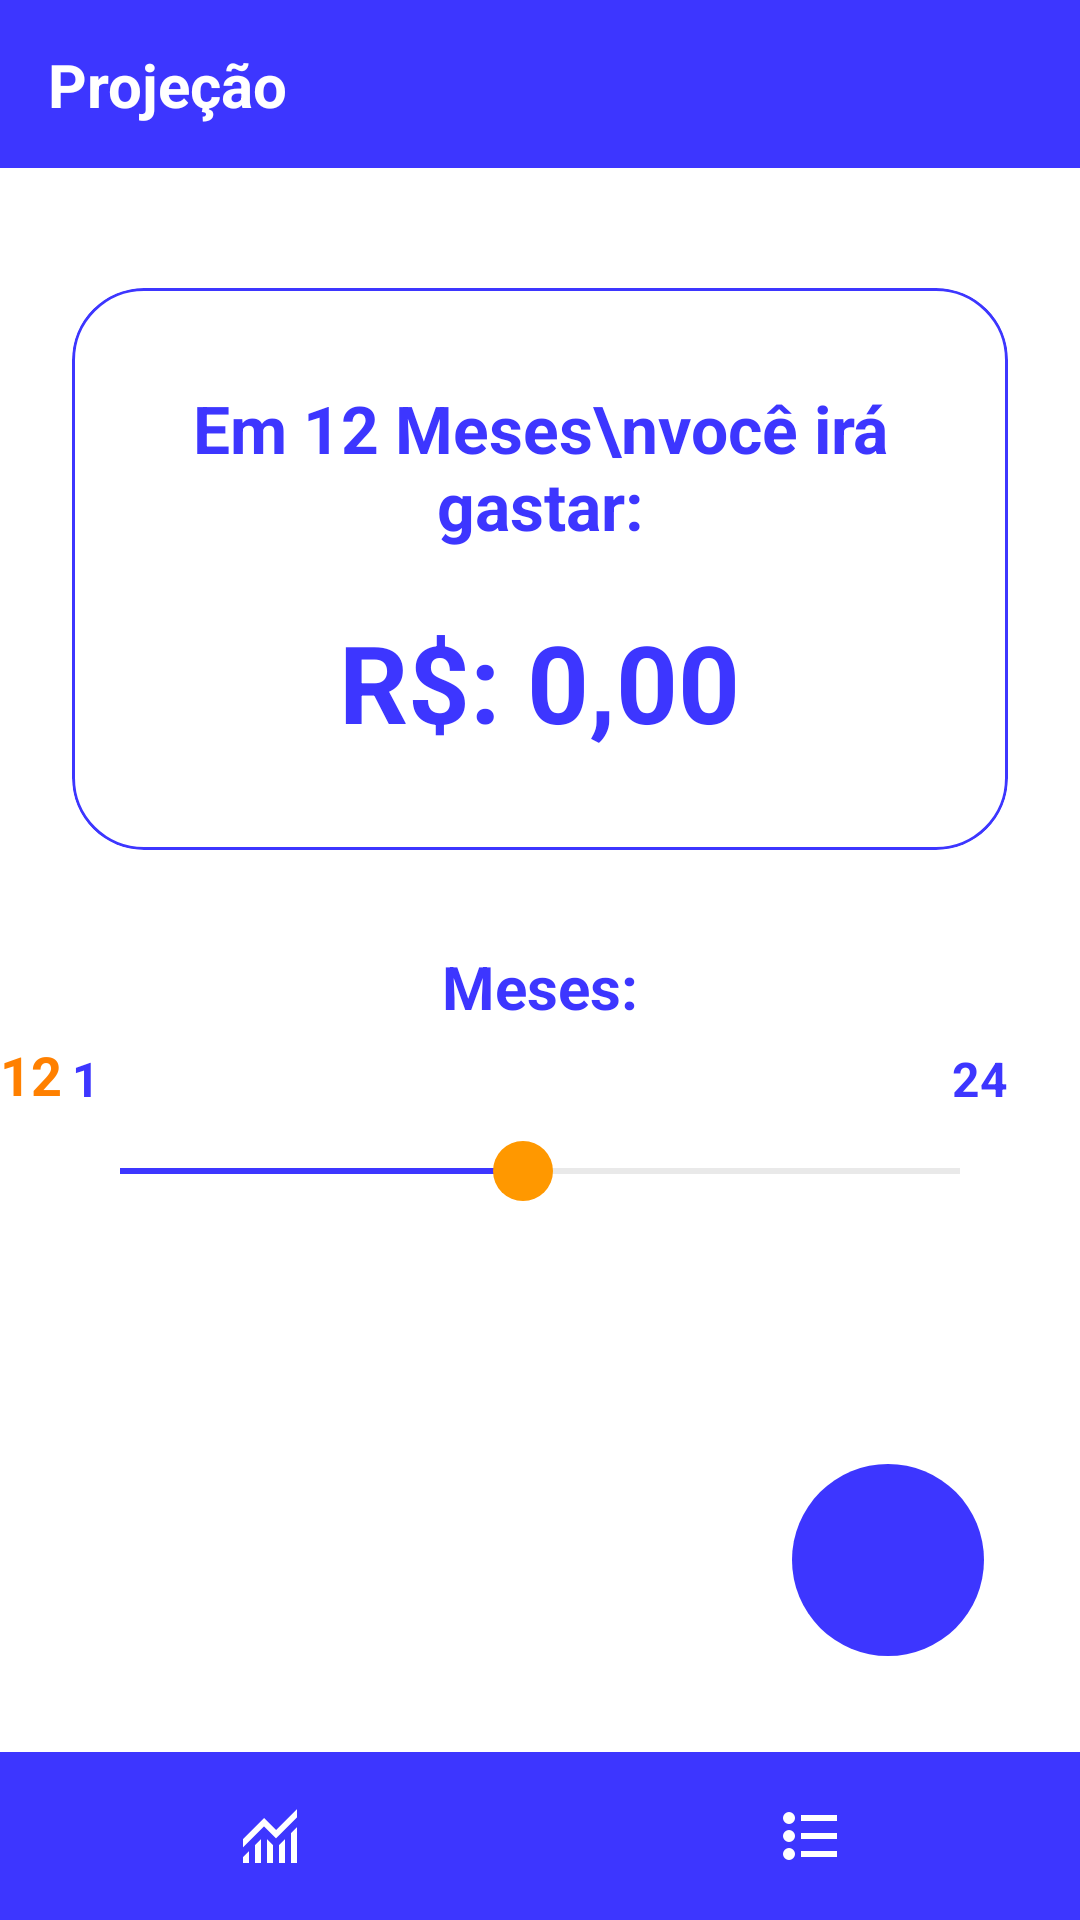

Point at icon controls on the screen. Image size 1080px x 1920px, points as (x,y).
list: (810,1836)
statistics: (270,1836)
